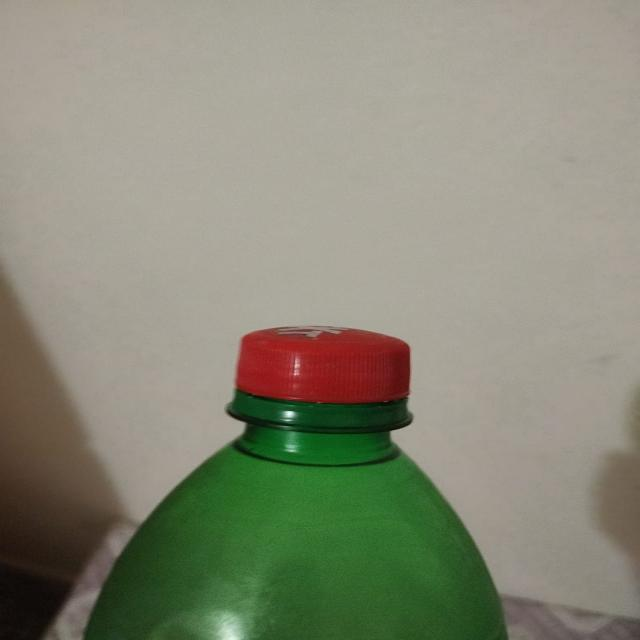cap: (233, 324, 411, 432)
